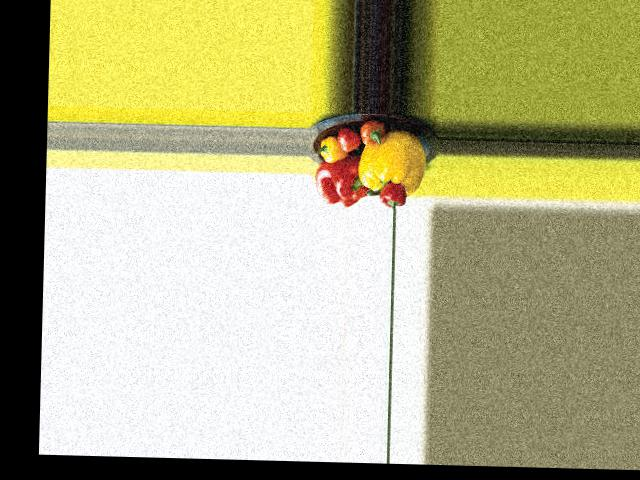bell_pepper: (316, 137, 345, 163)
